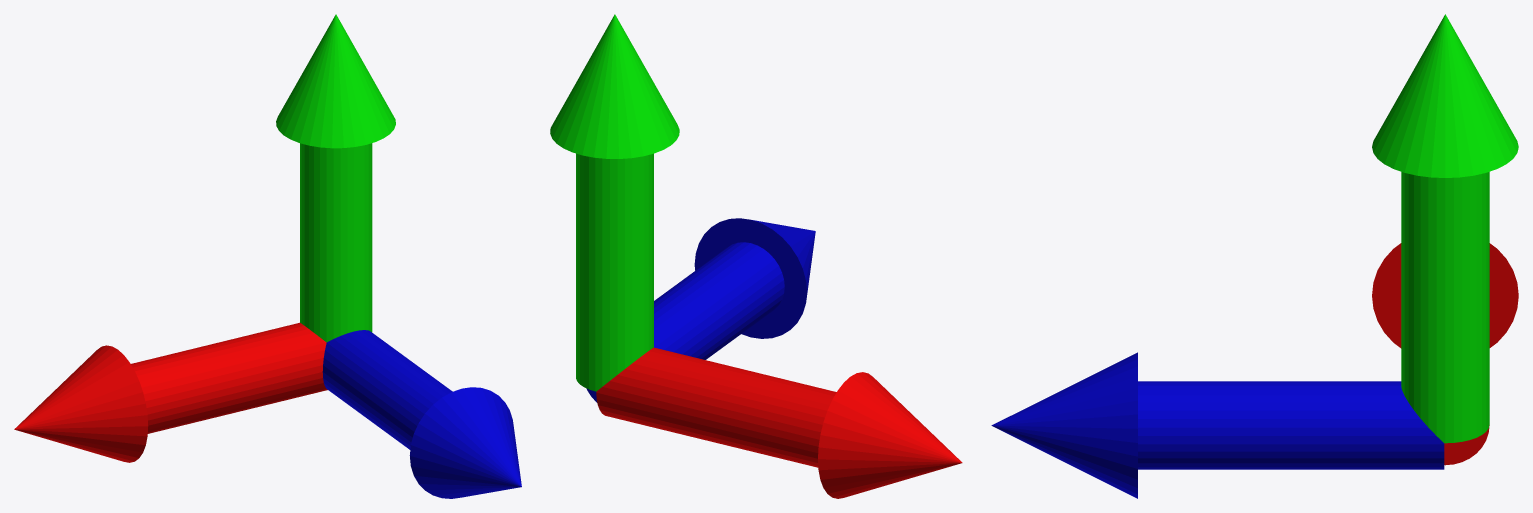
Rendered from axes.fbx.
The picture shows the model from 3 angles, left to right: view 1: azimuth 30°, elevation 25°; view 2: azimuth 150°, elevation 25°; view 3: azimuth 270°, elevation 25°; orthographic projection. The views are drawn at different scales.
Visible parts, largest first — view 1: Y.Axis, X.Axis, Z.AXIS; view 2: Y.Axis, X.Axis, Z.AXIS; view 3: Z.AXIS, Y.Axis, X.Axis.
Boxes of the visible parts, x1,y1,x2,y2 form: Y.Axis: [276, 14, 395, 342]; X.Axis: [14, 322, 327, 462]; Z.AXIS: [322, 330, 521, 498]; Y.Axis: [550, 14, 679, 391]; X.Axis: [596, 347, 962, 498]; Z.AXIS: [586, 218, 815, 402]; Z.AXIS: [991, 352, 1444, 498]; Y.Axis: [1372, 14, 1518, 443]; X.Axis: [1372, 243, 1518, 465].
Bounding box in the file's own units: 310 × 310 × 310.
